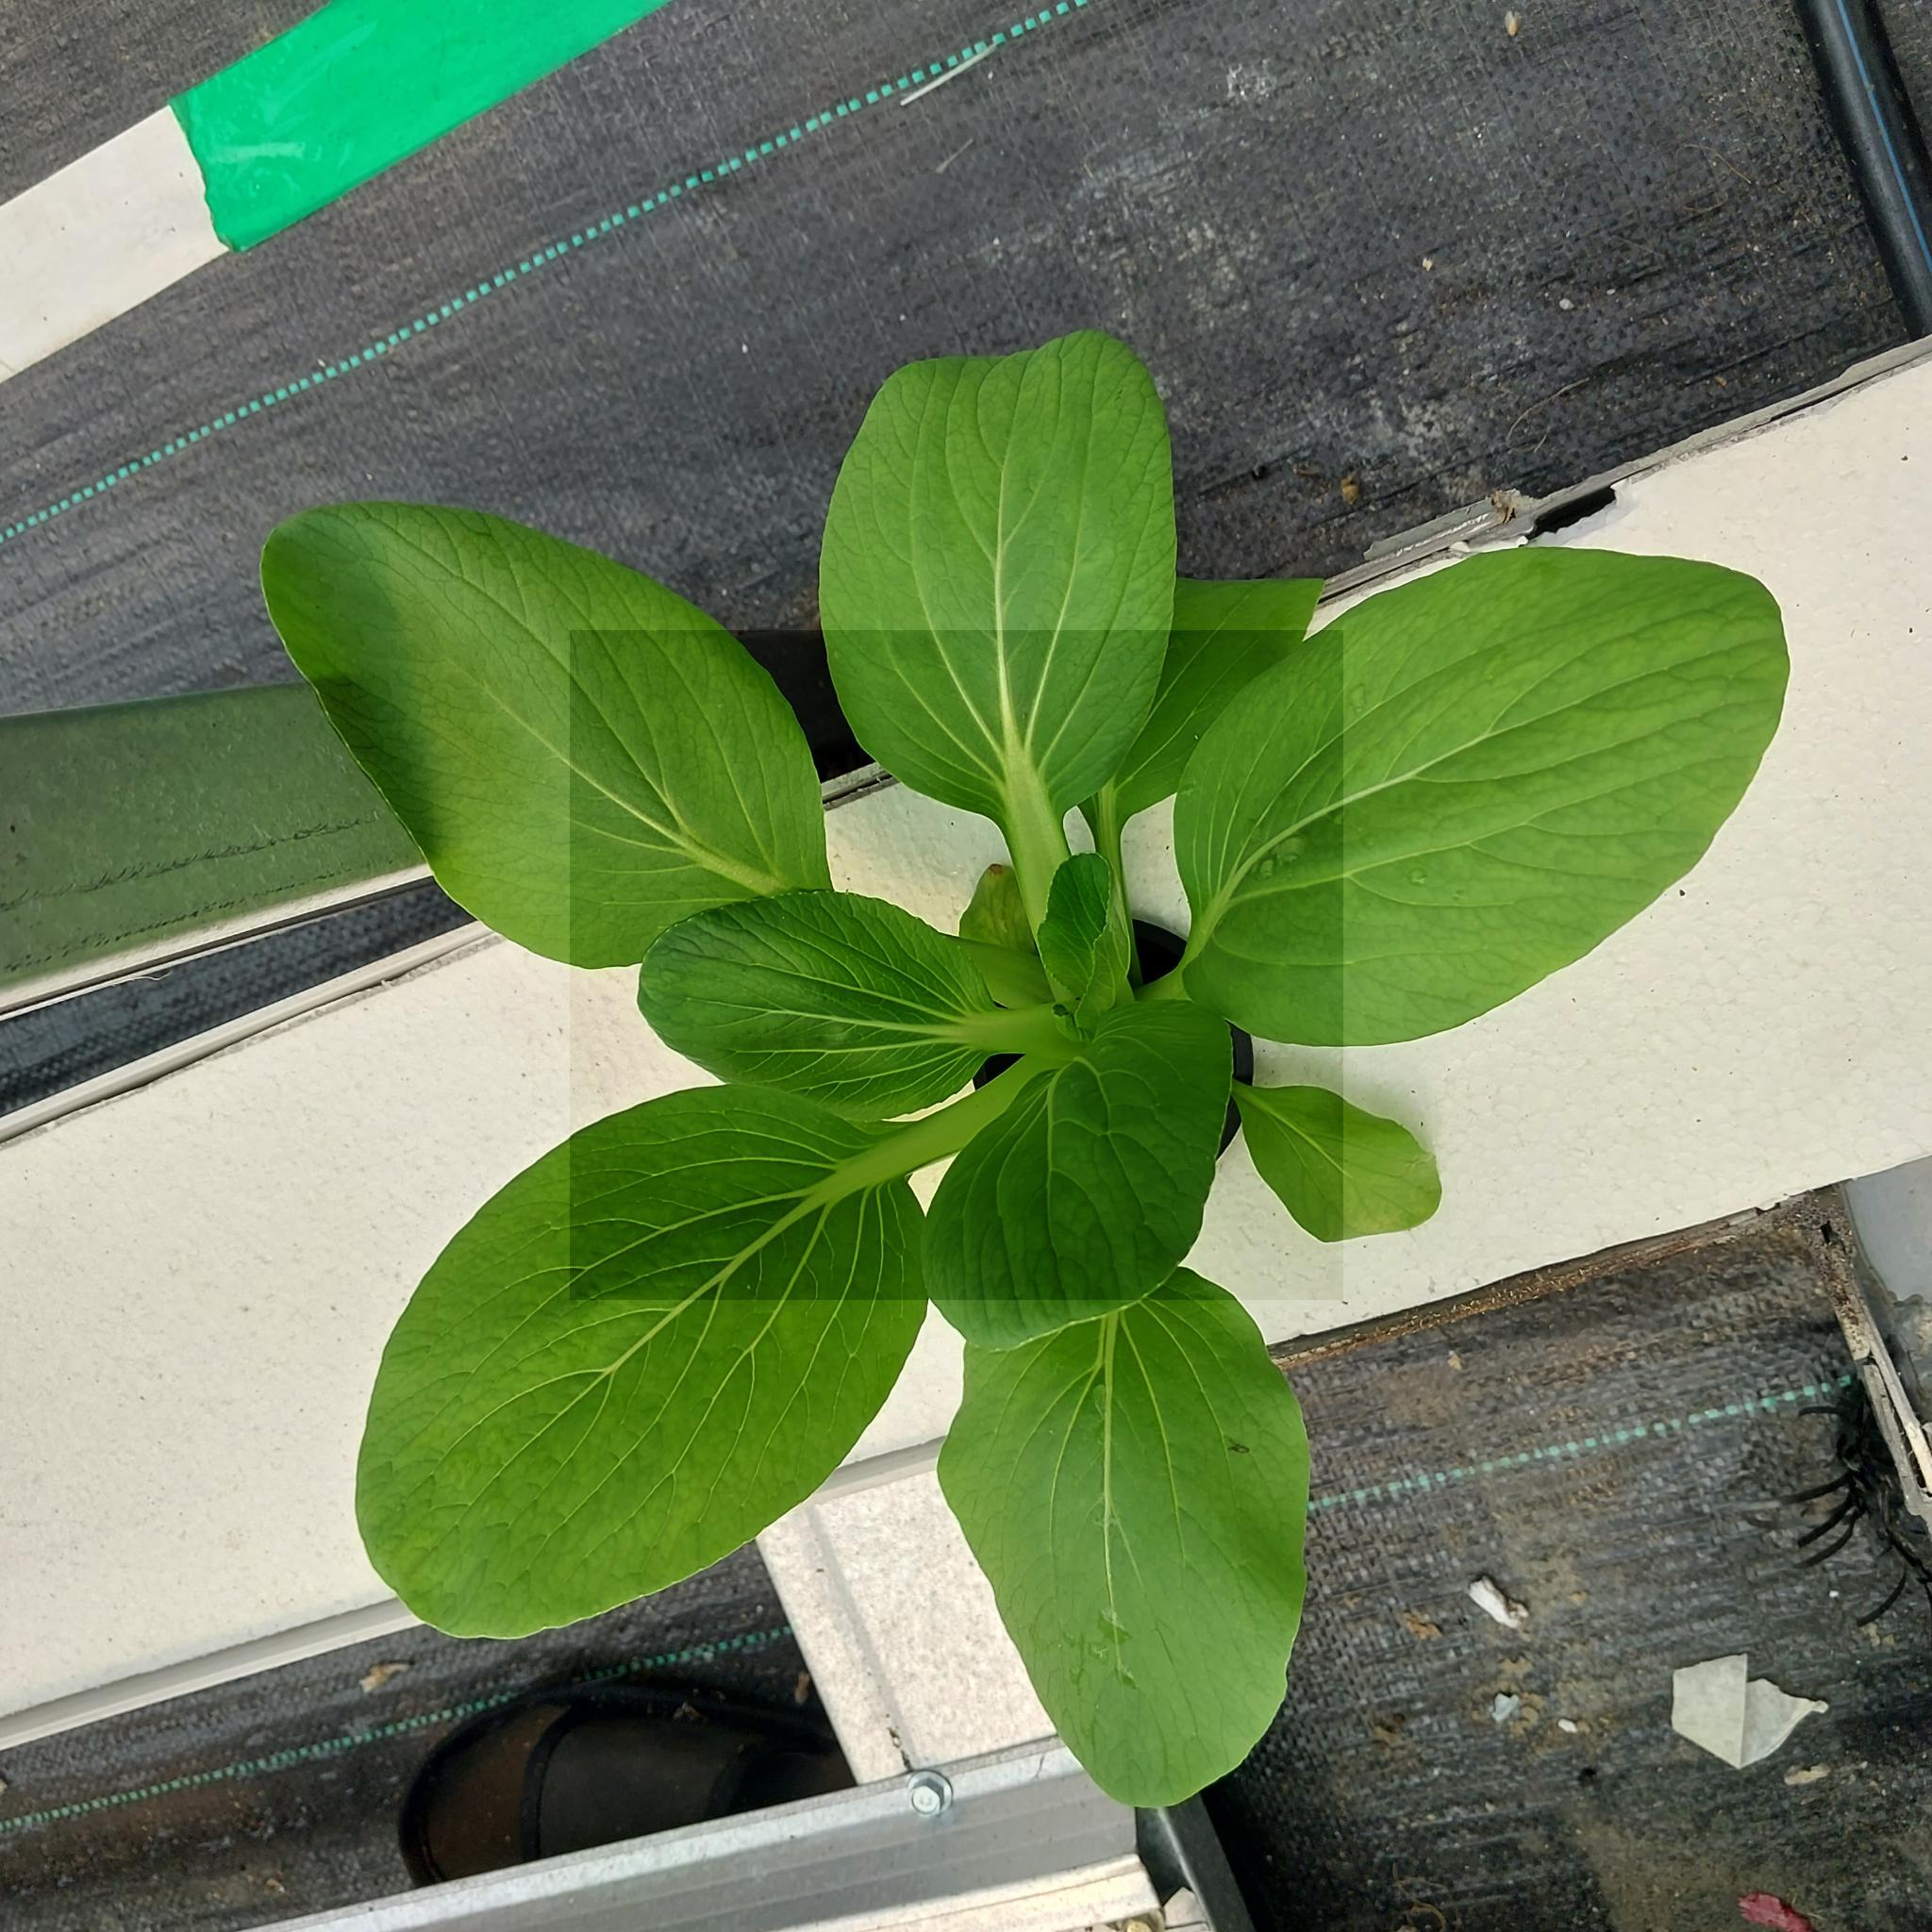Healthy-Pechay: (357, 1081, 950, 1651), (1152, 564, 1792, 1037), (255, 499, 837, 975), (823, 329, 1182, 952), (945, 1260, 1292, 1808), (936, 1007, 1235, 1343), (644, 892, 1030, 1109), (1106, 586, 1325, 883), (734, 1076, 1005, 1235), (1221, 1065, 1440, 1246)
